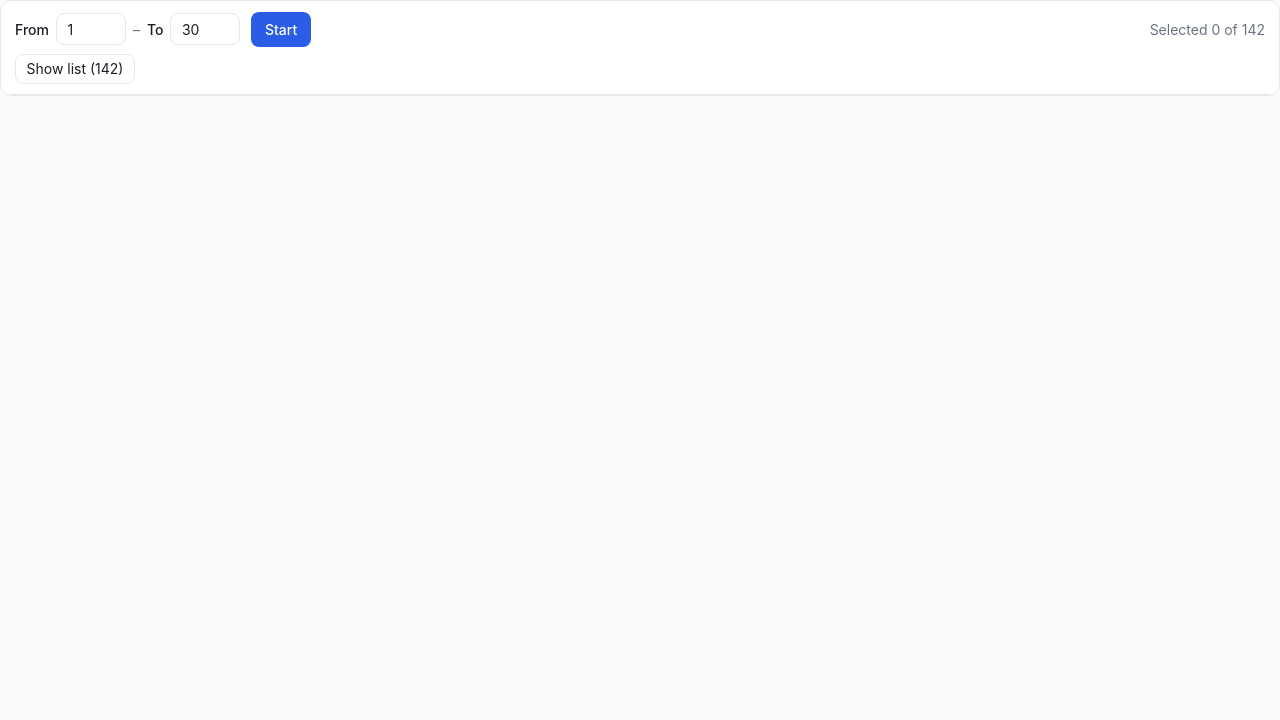
ChapterList 1.4 - selection helpers › lista domyślnie zwinięta, toggle pokazuje liczbę
Click the button with test id "chapter-list-toggle" at (75, 68), box [15, 54, 135, 84]
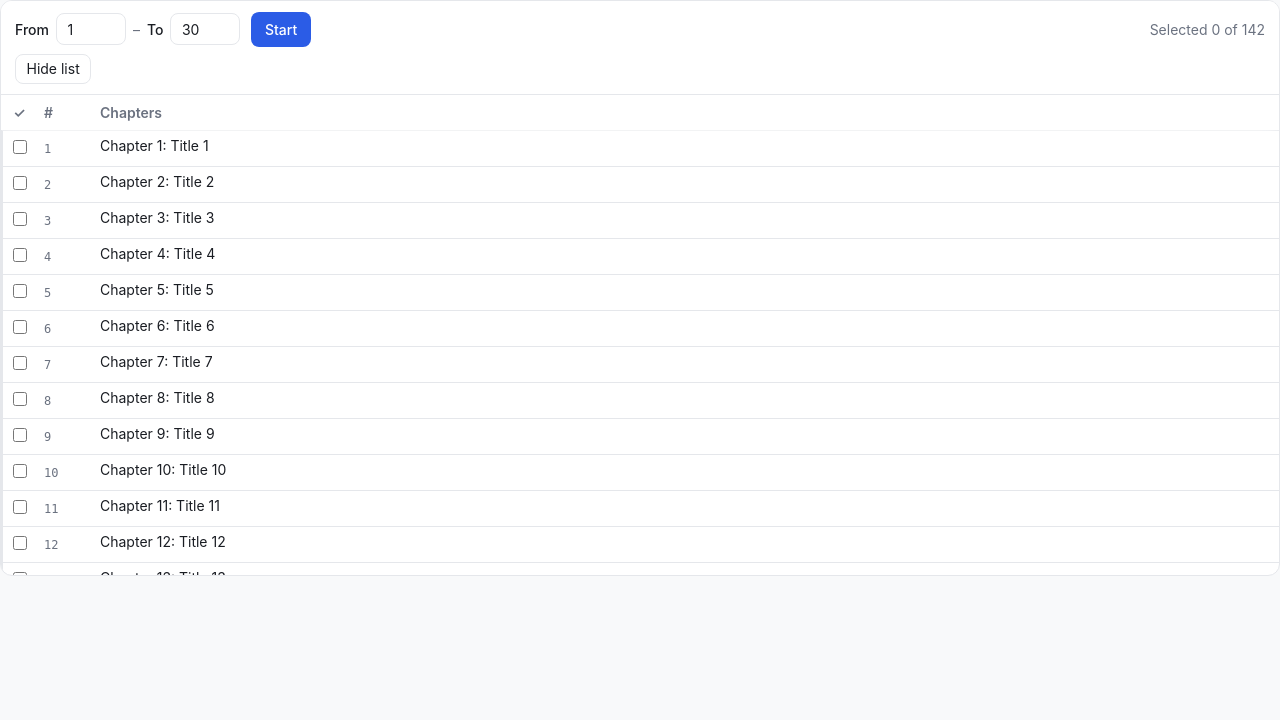
expect the row with test id "chapter-row-1" is shown: met, box [2, 130, 1279, 166]
expect the button with test id "chapter-list-toggle" is expanded: met, box [15, 54, 91, 84]
